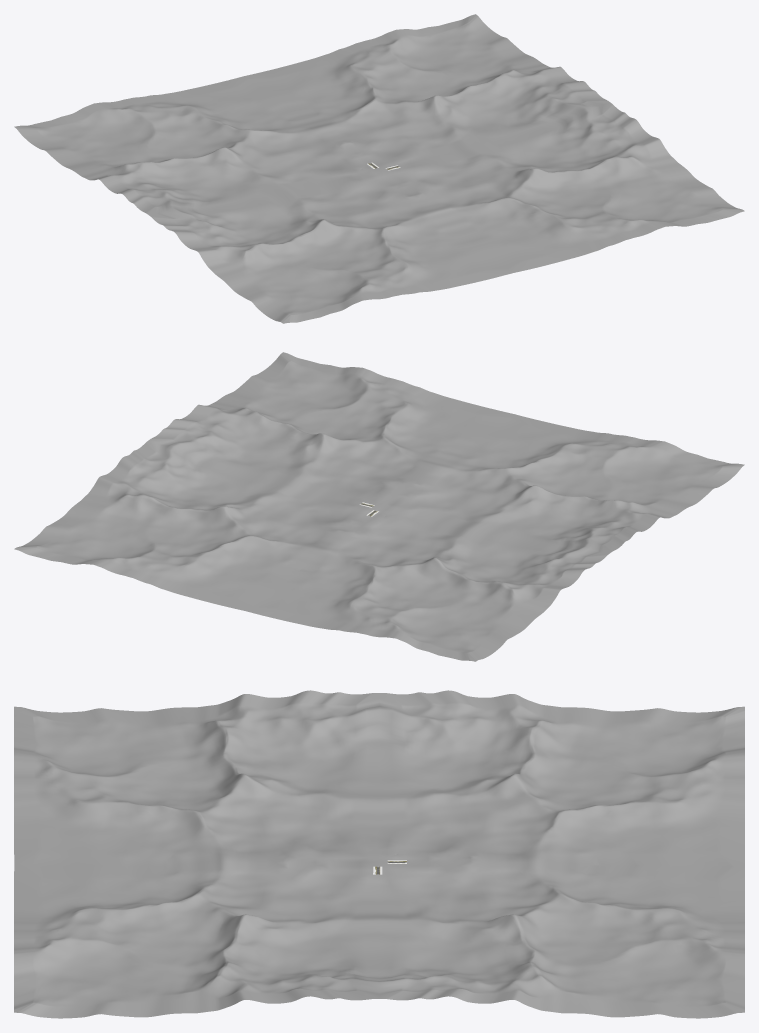
Rendered from Desert-Drone1_Mesh.fbx.
3 renders of one model, top to bottom at view 1: azimuth 30°, elevation 25°; view 2: azimuth 150°, elevation 25°; view 3: azimuth 270°, elevation 25°, orthographic. The views are drawn at different scales.
Parts seen in each view (by area): view 1: Mesh7; view 2: Mesh7; view 3: Mesh7.
Part boxes in pixels (<box>): Mesh7: <box>14,14,744,323</box>; Mesh7: <box>14,352,744,661</box>; Mesh7: <box>14,690,744,1018</box>.
Size of the model in its own units: 18133 by 669 by 18307.
3 materials, 1 textured.
